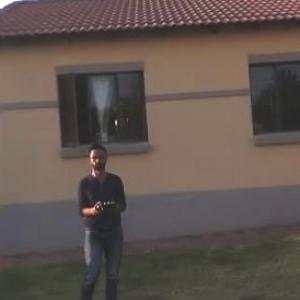follow: (73, 135, 132, 299)
